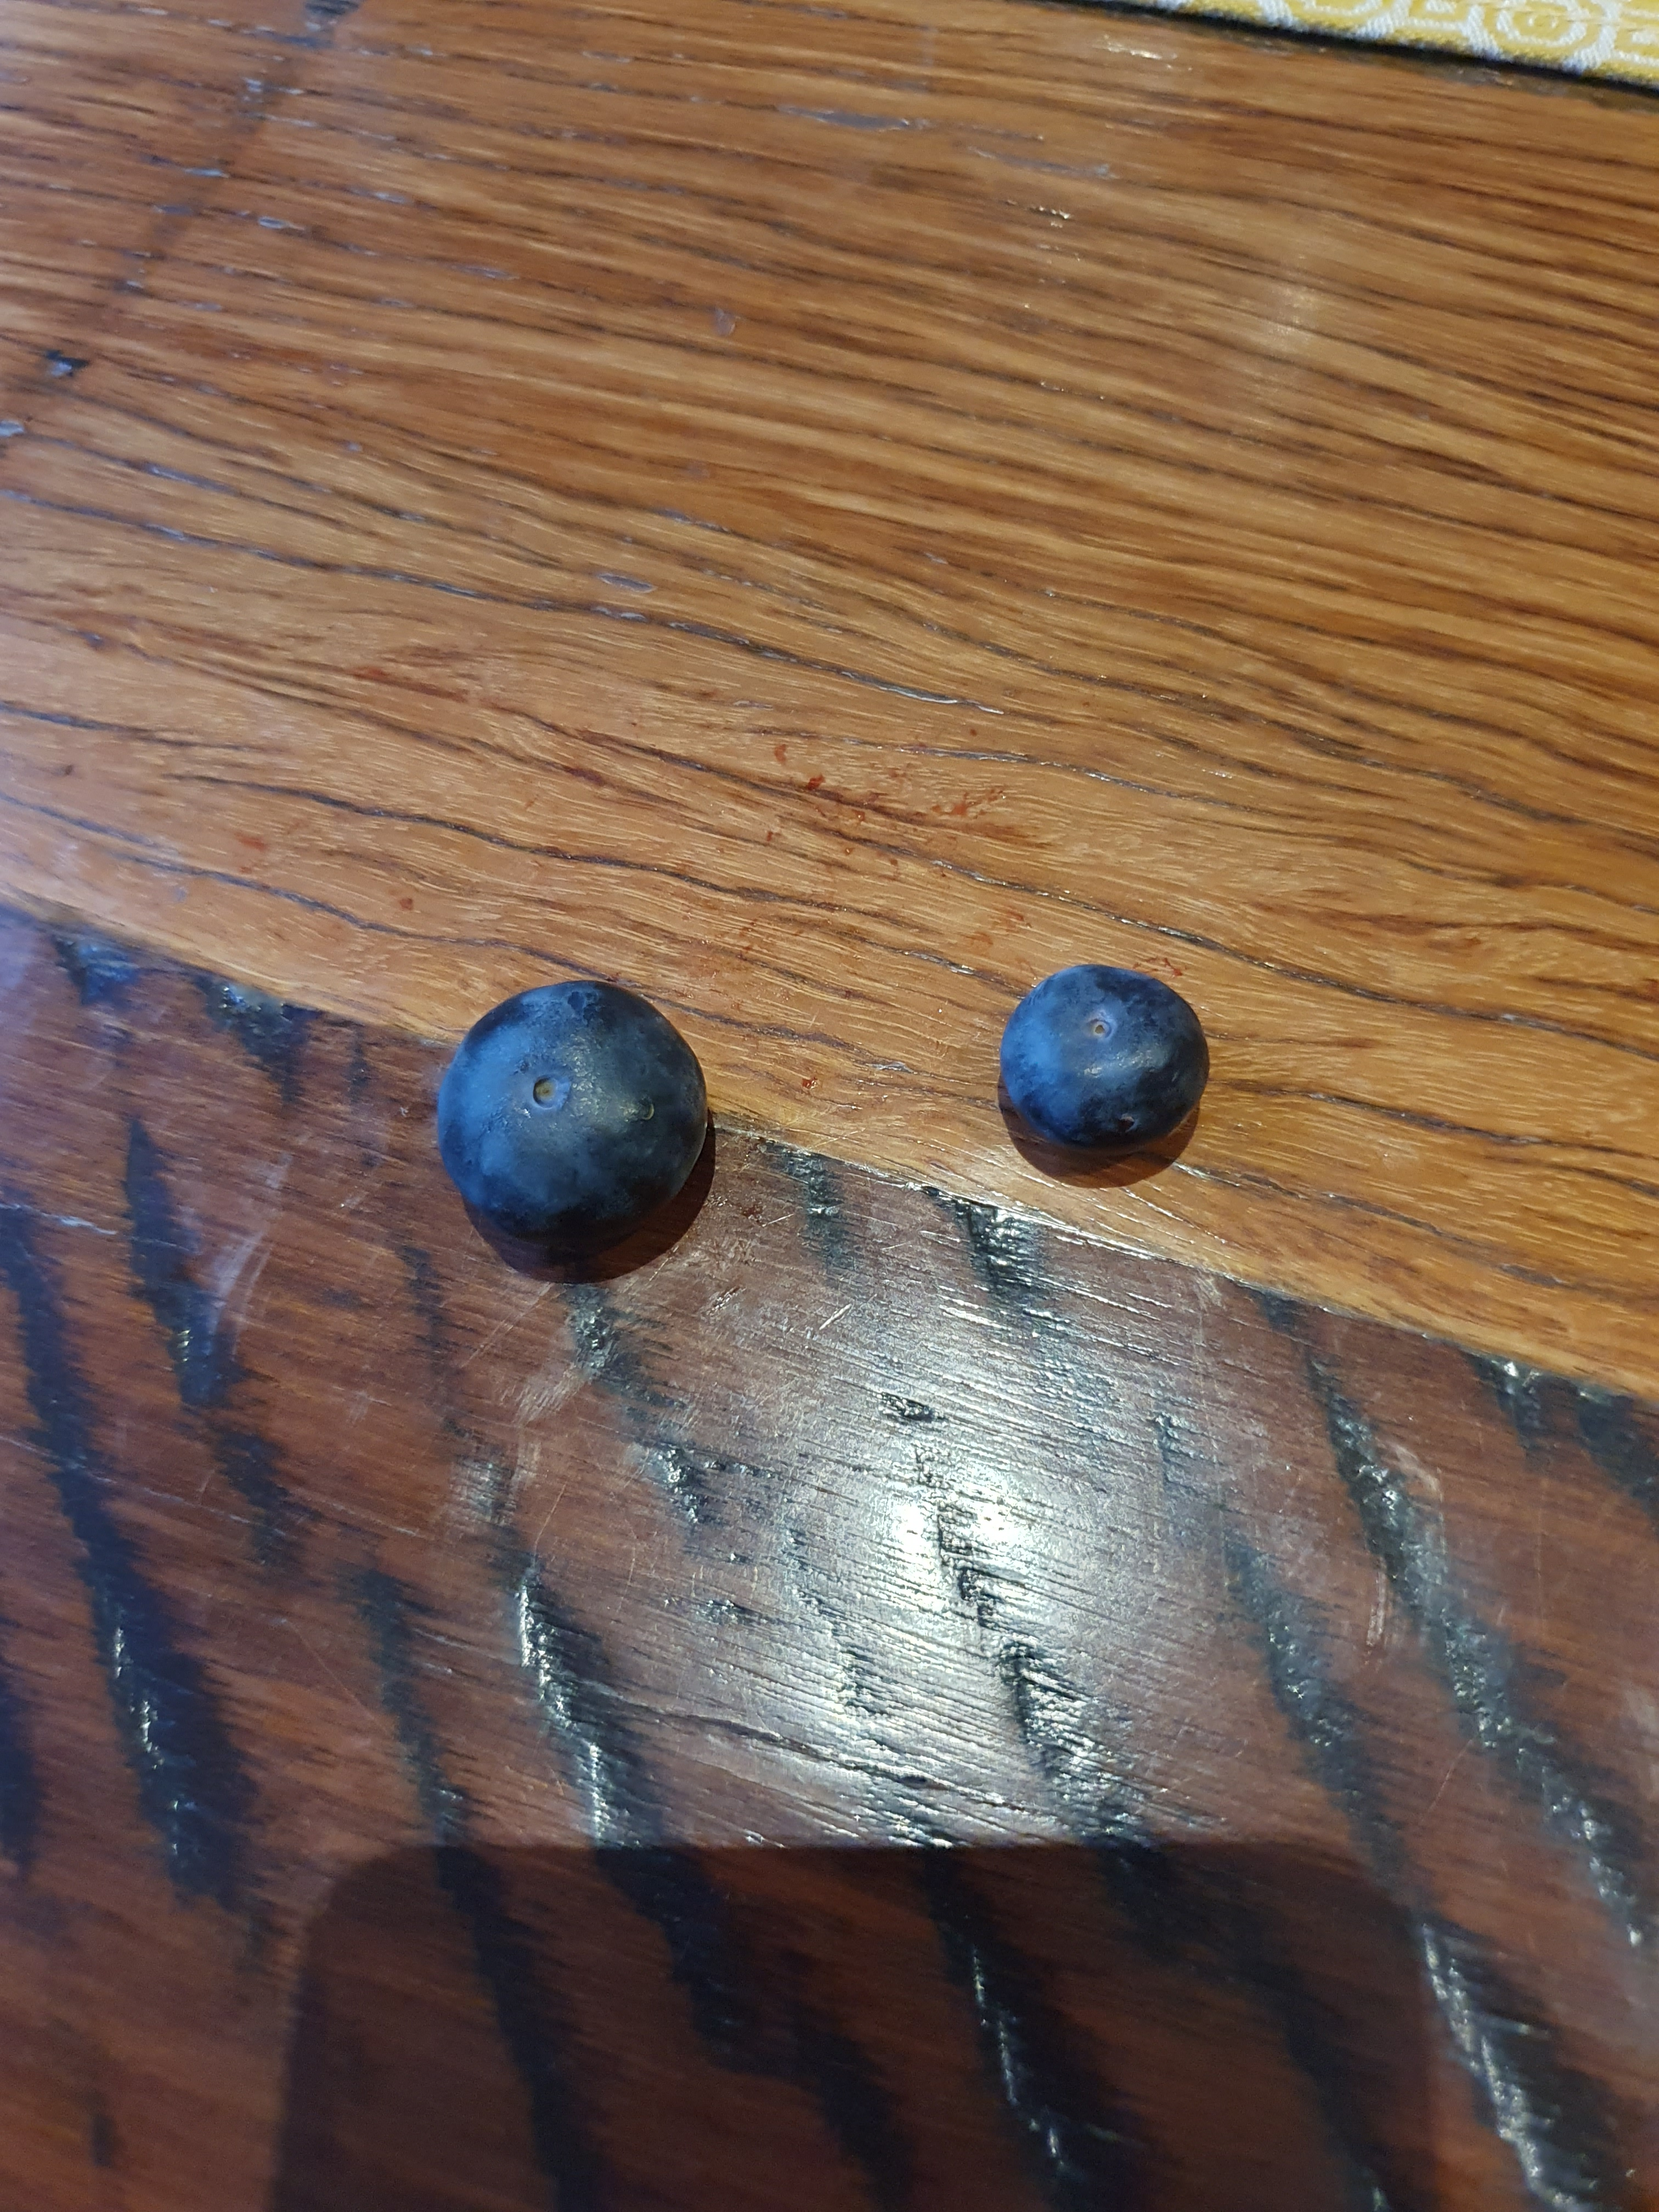blueberry: (392, 935, 772, 1298), (974, 939, 1244, 1209)
